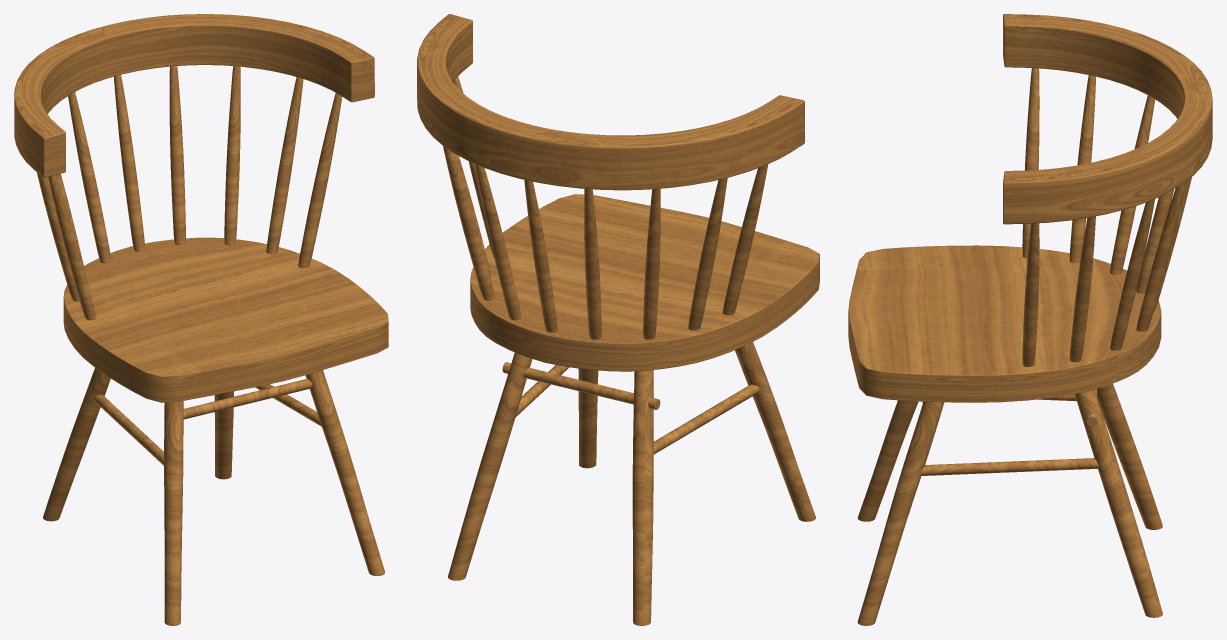
File: kitchen chair.fbx
3 renders of one model, left to right at view 1: azimuth 30°, elevation 25°; view 2: azimuth 150°, elevation 25°; view 3: azimuth 270°, elevation 25°, orthographic. The views are drawn at different scales.
Parts seen in each view (by area): view 1: kitchen chair; view 2: kitchen chair; view 3: kitchen chair.
Part boxes in pixels (left/top/right/bottom): kitchen chair: left=14, top=14, right=388, bottom=625; kitchen chair: left=417, top=14, right=819, bottom=625; kitchen chair: left=848, top=14, right=1212, bottom=625.
Size of the model in its own units: 256 by 333 by 233.
